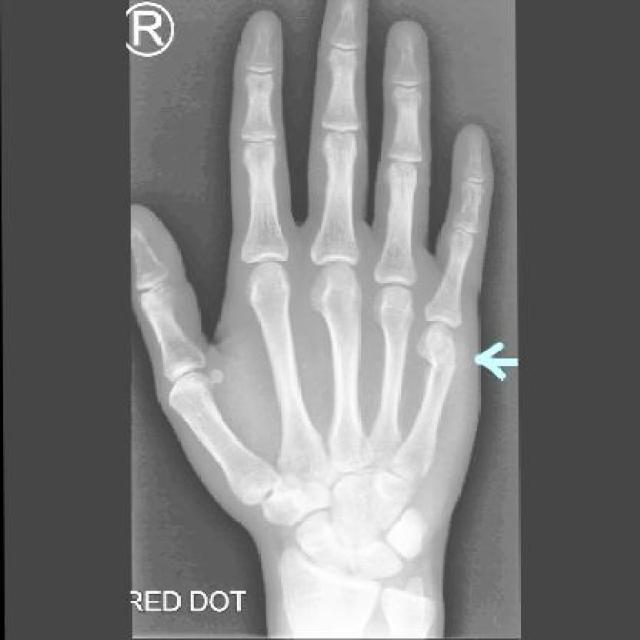Fracture: (419, 334, 464, 379)
